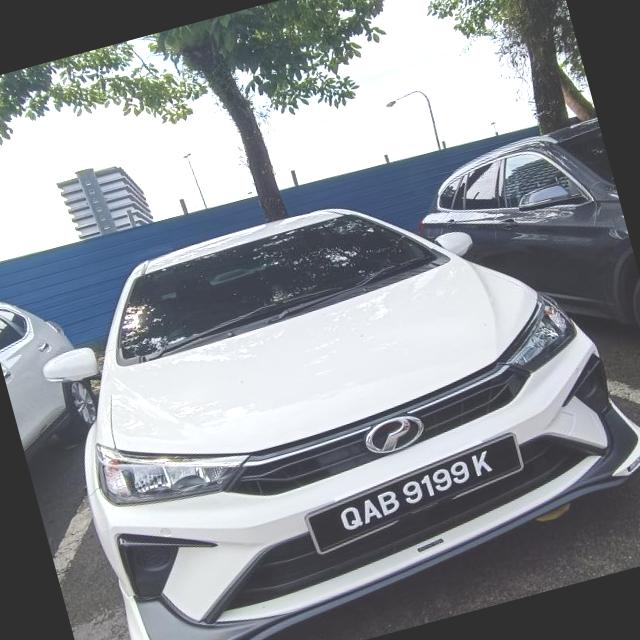PeroduaBezza: (26, 138, 640, 640)
